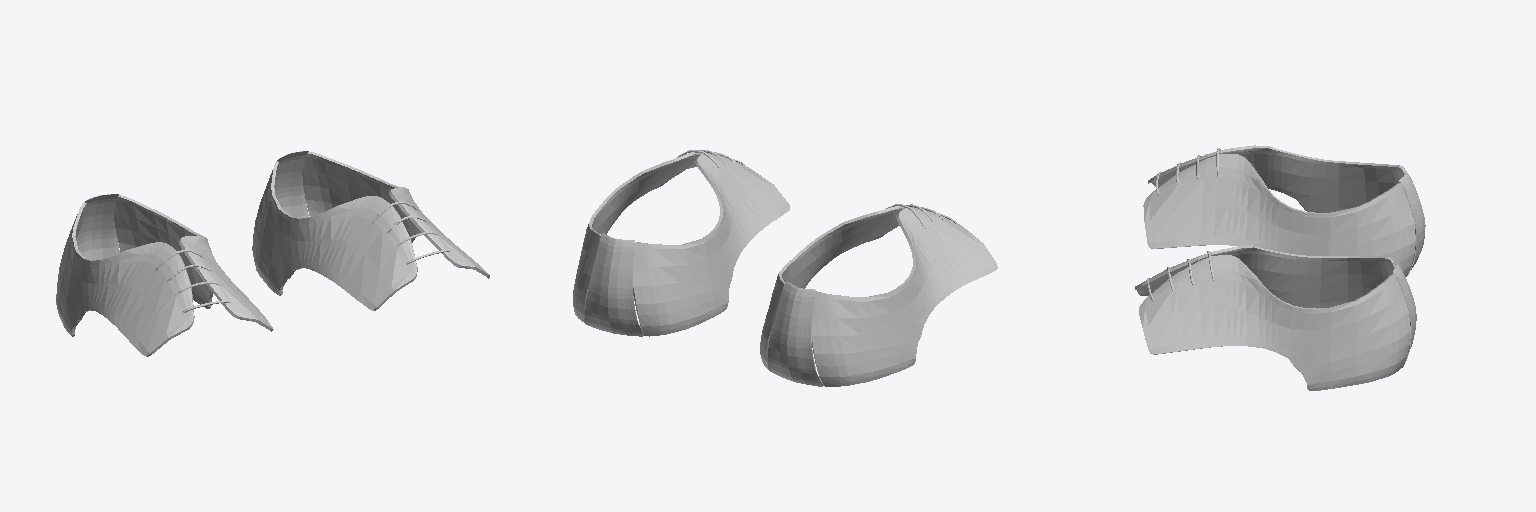
File: Suit_Shoe_lases_Section2.obj
The picture shows the model from 3 angles: view 1: azimuth 30°, elevation 25°; view 2: azimuth 150°, elevation 25°; view 3: azimuth 270°, elevation 25°; orthographic projection.
Parts seen in each view (by area): view 1: polySurface33, polySurface39 pPlane15; view 2: polySurface39 pPlane15, polySurface33; view 3: polySurface33, polySurface39 pPlane15.
Part boxes in pixels (bbox=[...]): polySurface33: bbox=[252, 151, 489, 310]; polySurface39 pPlane15: bbox=[56, 194, 273, 356]; polySurface39 pPlane15: bbox=[760, 204, 997, 386]; polySurface33: bbox=[573, 150, 789, 336]; polySurface33: bbox=[1135, 245, 1416, 390]; polySurface39 pPlane15: bbox=[1143, 145, 1425, 276].
Bounding box in the file's own units: 26.71 × 8.19 × 19.7.